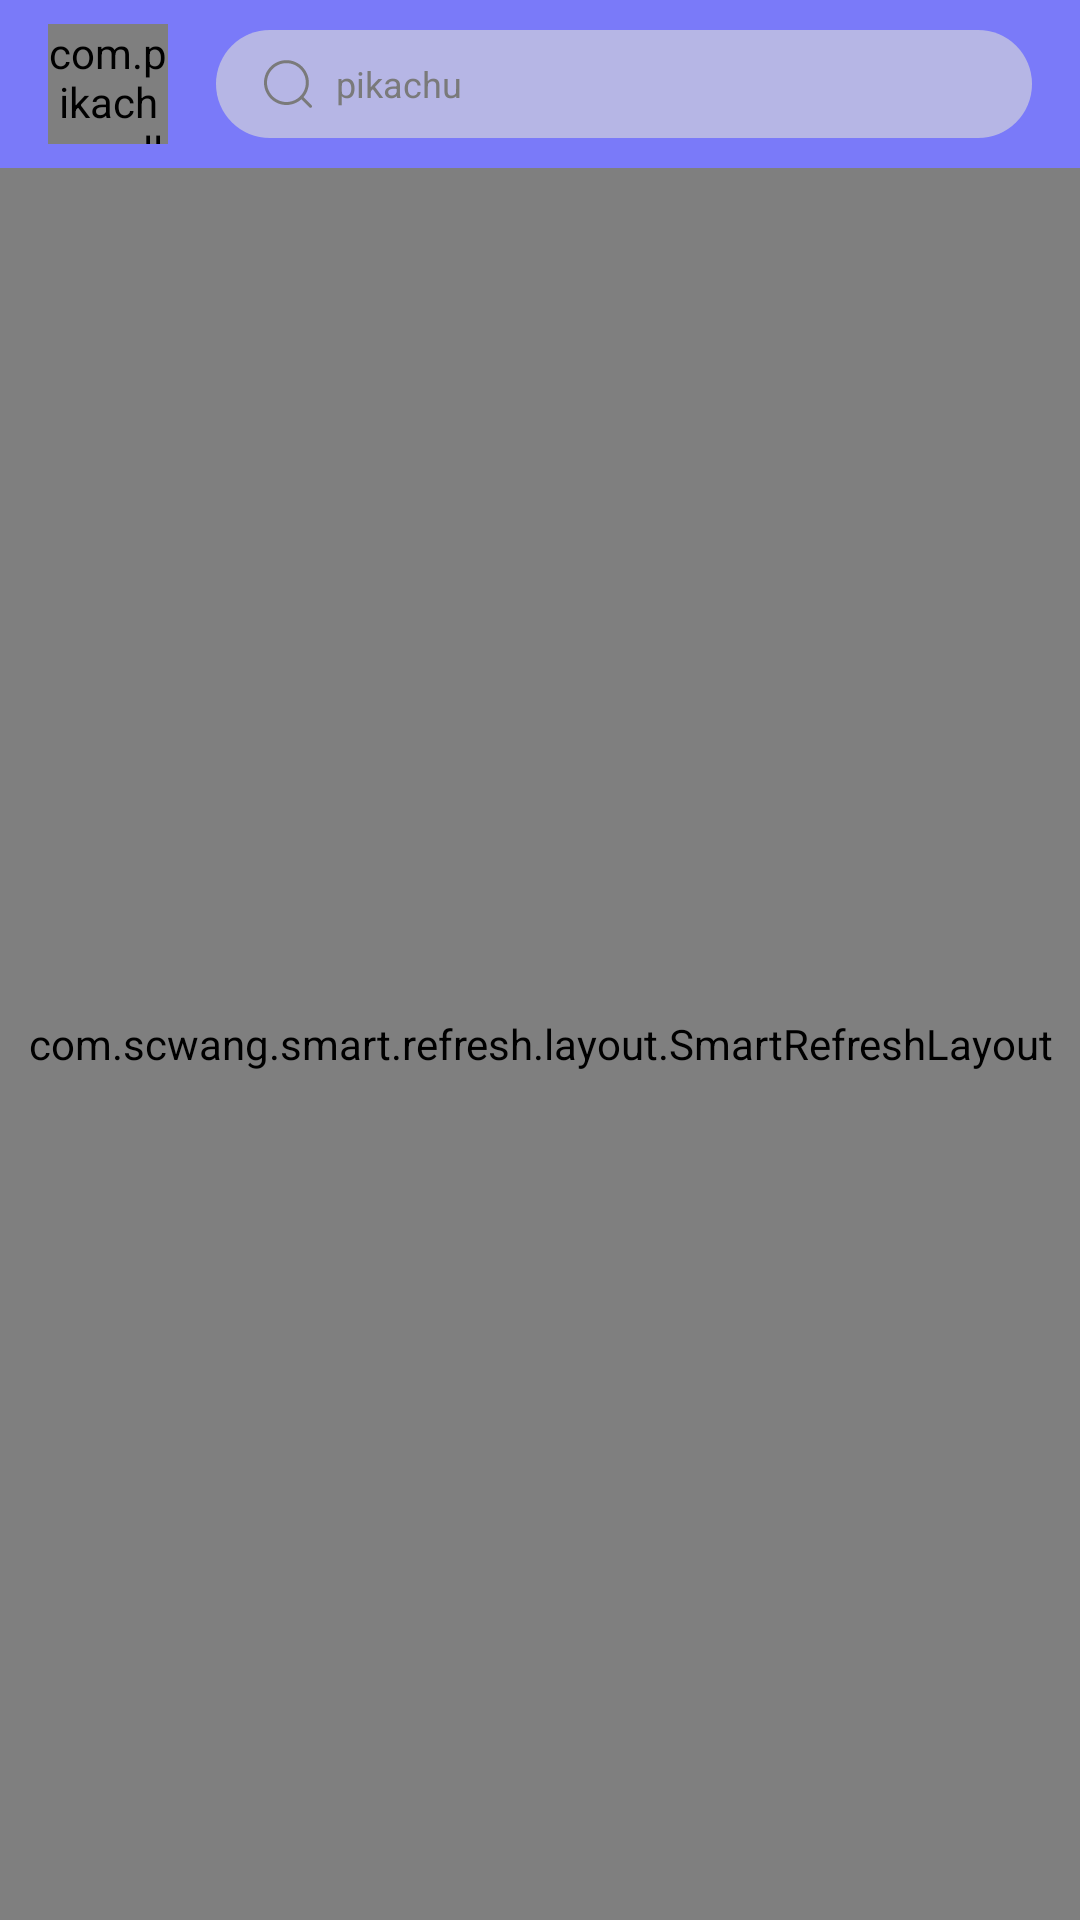

Icons on this 1080*1920 Android screen, each with the point to tap as point (x, y):
search: point (288, 84)
